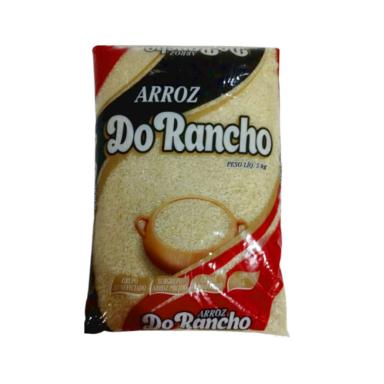rice package: (85, 47, 287, 334)
